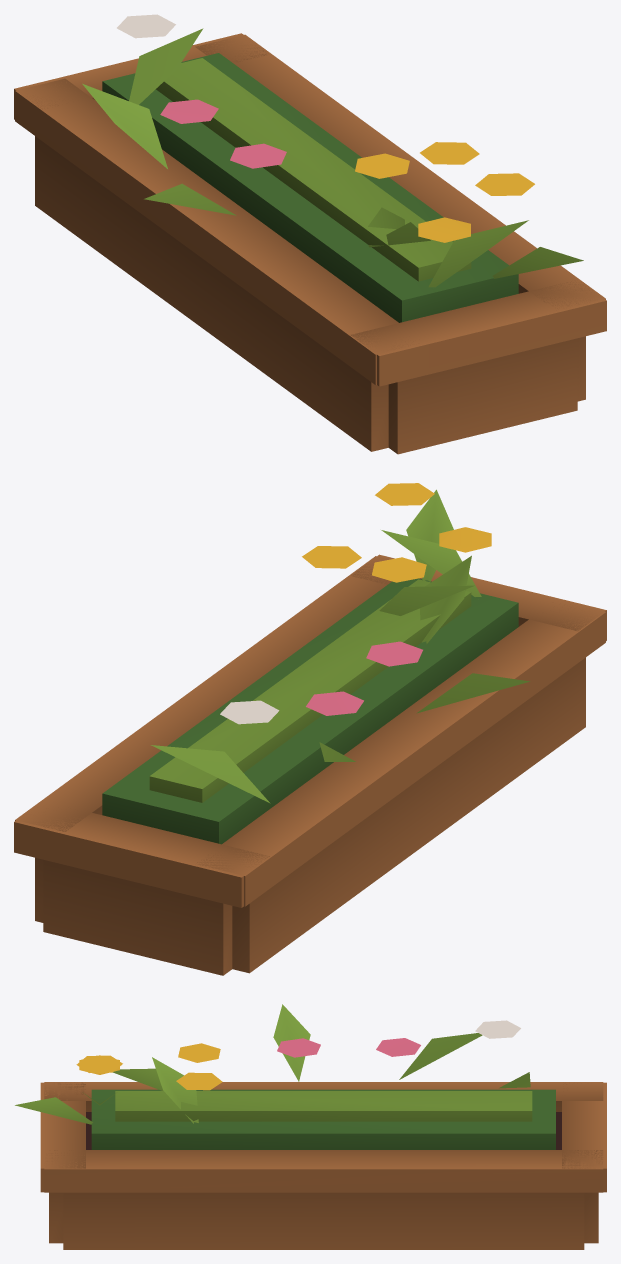
3 renders of one model, top to bottom at view 1: azimuth 30°, elevation 25°; view 2: azimuth 150°, elevation 25°; view 3: azimuth 270°, elevation 25°, orthographic. The views are drawn at different scales.
Visible parts, largest first — view 1: root_pal_woodWarm, root_pal_foliage, root_pal_foliageDark, root_pal_schoolBusYellow, root_pal_flamingoPink, root_pal_picketWhite; view 2: root_pal_woodWarm, root_pal_foliageDark, root_pal_foliage, root_pal_schoolBusYellow, root_pal_flamingoPink, root_pal_picketWhite; view 3: root_pal_woodWarm, root_pal_foliage, root_pal_foliageDark, root_pal_schoolBusYellow, root_pal_flamingoPink, root_pal_picketWhite, root_pal_hairChestnut.
Part boxes in pixels (bbox=[...]): root_pal_woodWarm: bbox=[14, 33, 606, 454]; root_pal_foliage: bbox=[82, 28, 583, 287]; root_pal_foliageDark: bbox=[102, 53, 518, 322]; root_pal_schoolBusYellow: bbox=[355, 142, 534, 242]; root_pal_flamingoPink: bbox=[160, 99, 286, 168]; root_pal_picketWhite: bbox=[117, 14, 175, 38]; root_pal_woodWarm: bbox=[14, 554, 606, 975]; root_pal_foliageDark: bbox=[102, 578, 518, 844]; root_pal_foliage: bbox=[149, 489, 530, 803]; root_pal_schoolBusYellow: bbox=[302, 483, 491, 582]; root_pal_flamingoPink: bbox=[306, 641, 422, 715]; root_pal_picketWhite: bbox=[220, 700, 279, 724]; root_pal_woodWarm: bbox=[40, 1082, 606, 1249]; root_pal_foliage: bbox=[15, 1004, 532, 1124]; root_pal_foliageDark: bbox=[91, 1089, 555, 1149]; root_pal_schoolBusYellow: bbox=[76, 1043, 222, 1090]; root_pal_flamingoPink: bbox=[277, 1038, 420, 1057]; root_pal_picketWhite: bbox=[475, 1020, 520, 1038]; root_pal_hairChestnut: bbox=[86, 1112, 561, 1149].
Bounding box in the file's own units: 0.5832 × 0.3818 × 1.25.
